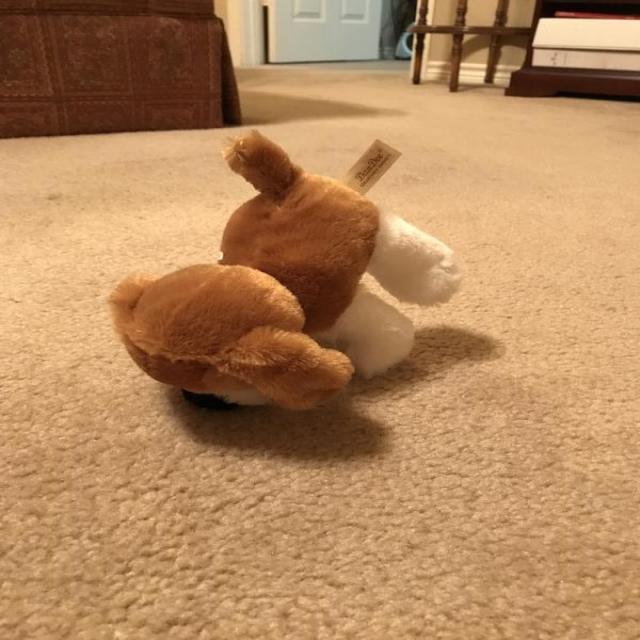toy: (80, 126, 469, 426)
